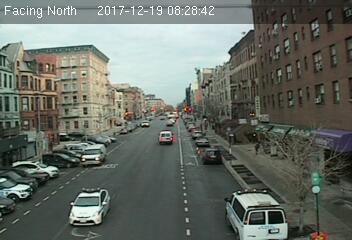car: (201, 147, 221, 162), (196, 137, 207, 146)
police: (224, 188, 287, 240), (68, 185, 112, 228)
truck: (78, 144, 108, 165), (158, 131, 172, 143)
